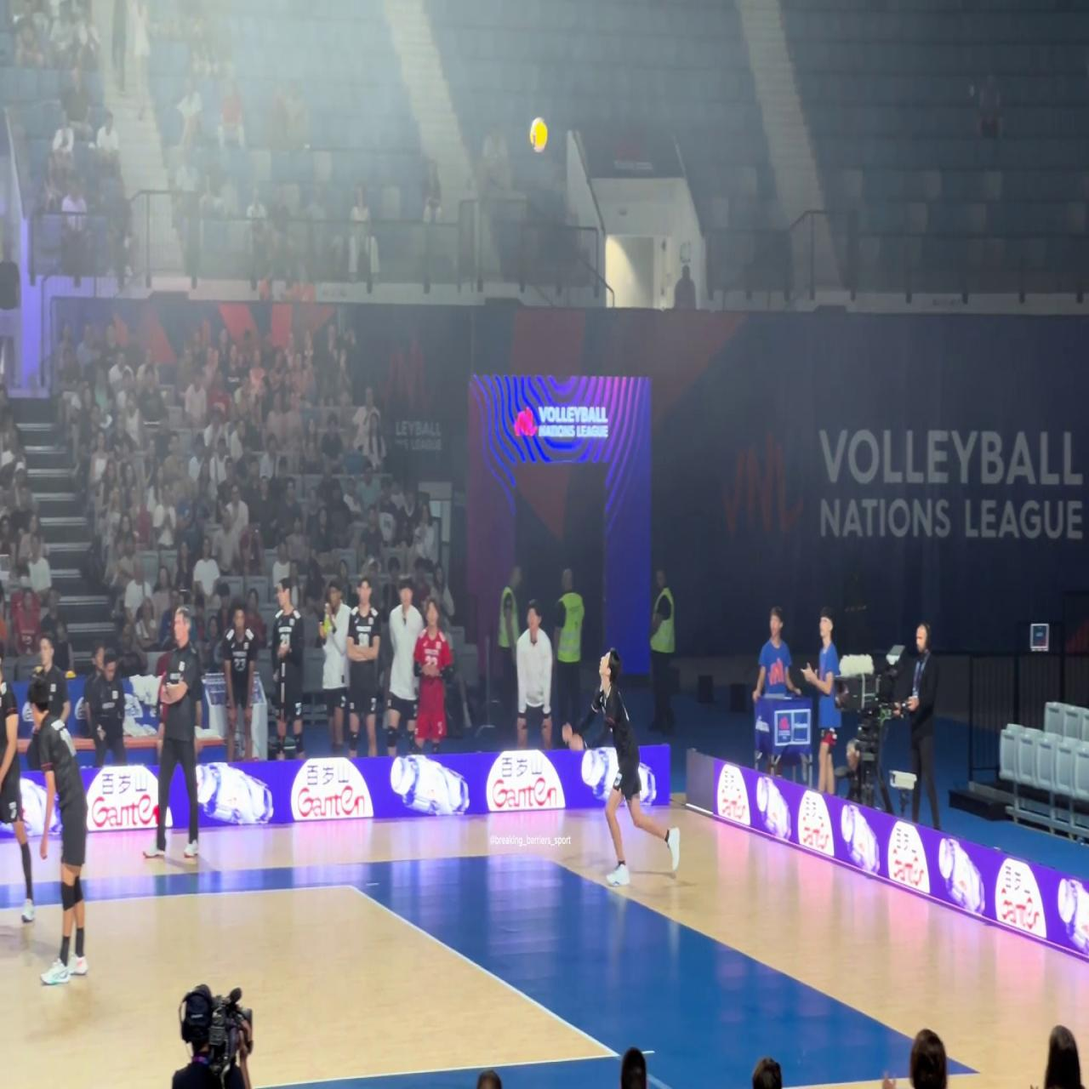ball: (529, 117, 549, 153)
